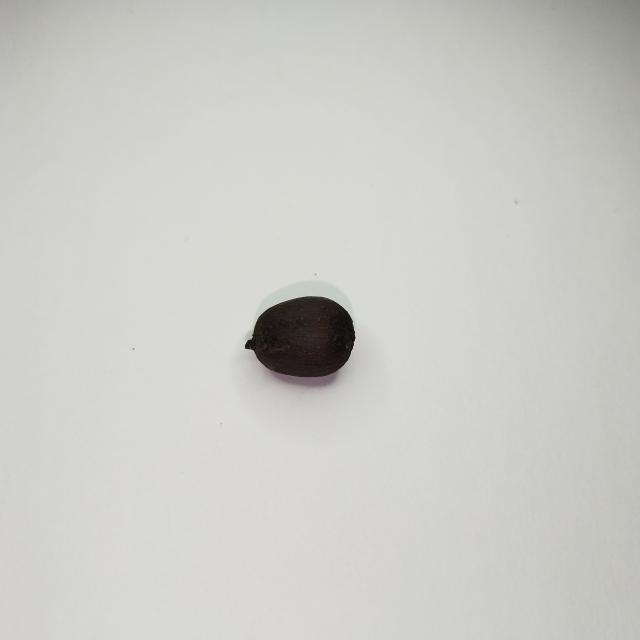Danado: (247, 297, 354, 377)
